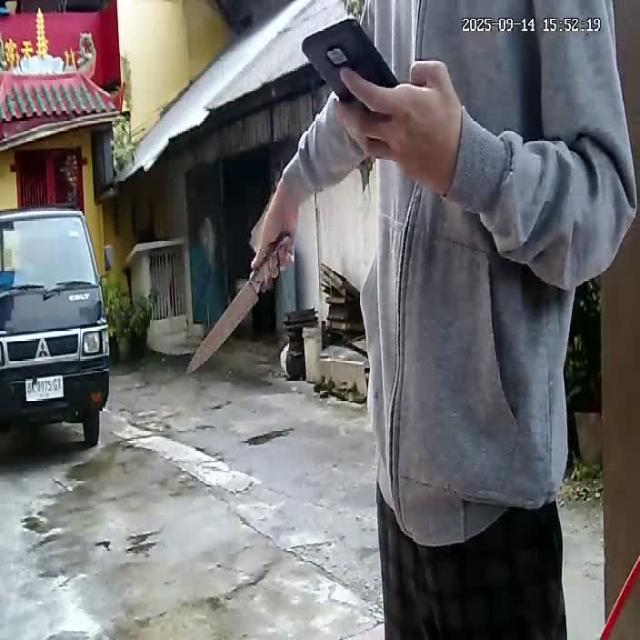senjata_tajam: (183, 268, 263, 378)
